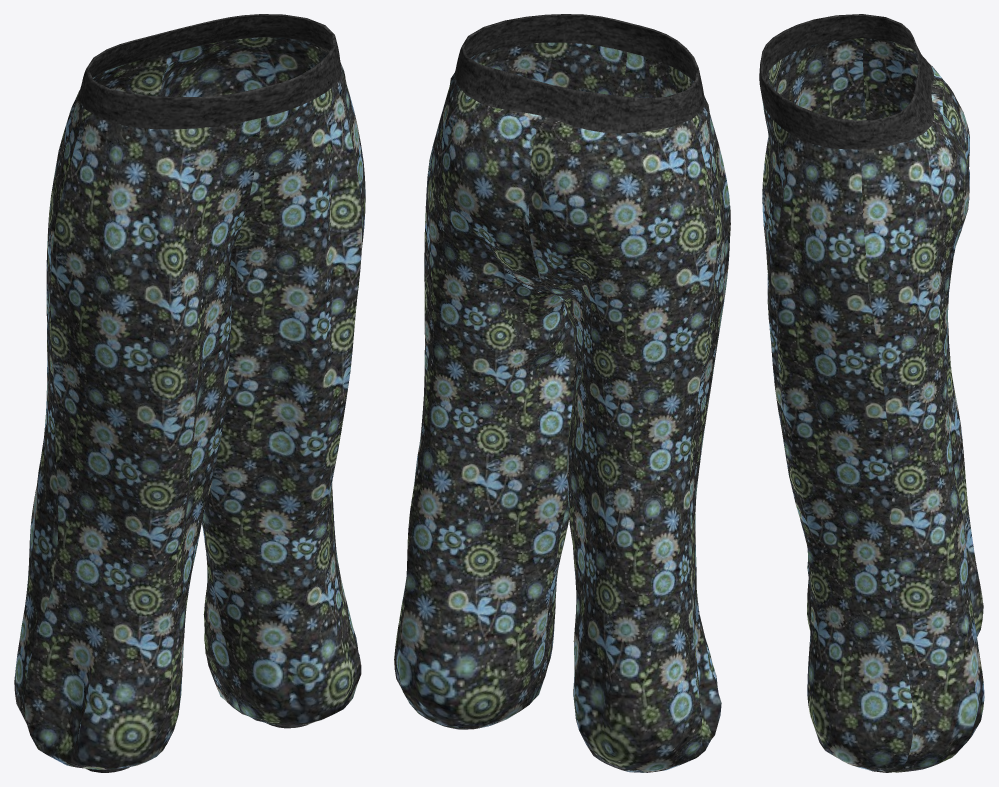
File: bottom_harem.gltf
3 renders of one model, left to right at view 1: azimuth 30°, elevation 25°; view 2: azimuth 150°, elevation 25°; view 3: azimuth 270°, elevation 25°, orthographic. The views are drawn at different scales.
Visible parts, largest first — view 1: bottom_harem; view 2: bottom_harem; view 3: bottom_harem.
Boxes of the visible parts, x1,y1,x2,y2 form: bottom_harem: [14, 14, 365, 772]; bottom_harem: [394, 14, 730, 772]; bottom_harem: [759, 14, 984, 772].
Bounding box in the file's own units: 0.3949 × 0.8435 × 0.2613.
Materials: 1 (1 with a texture image).
